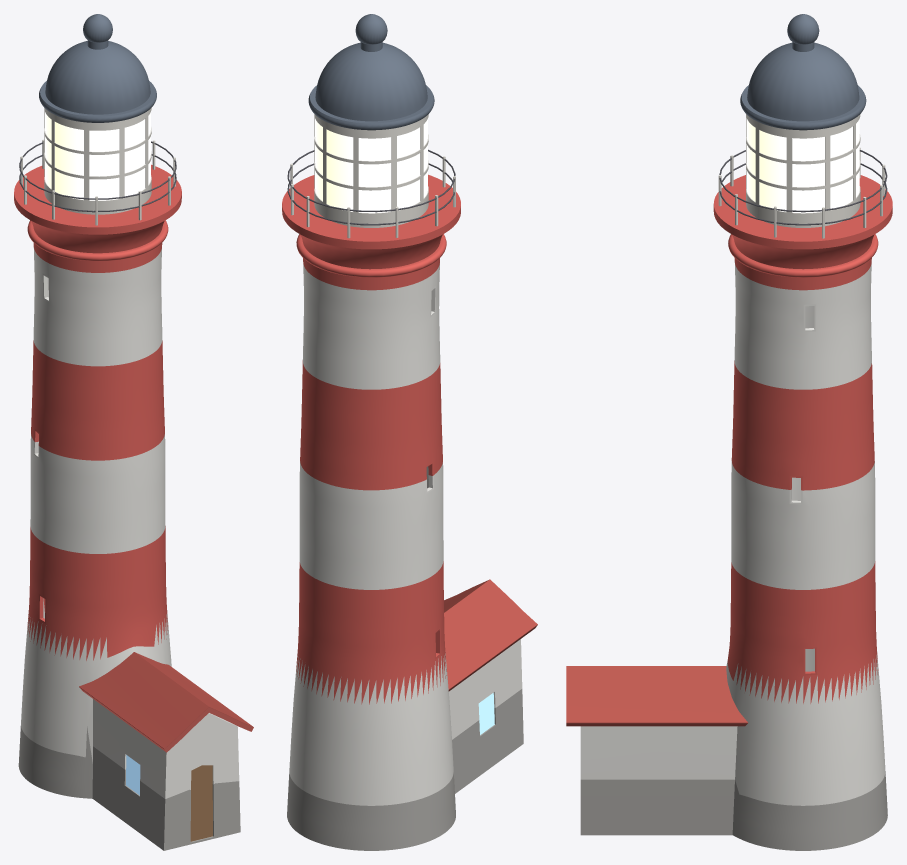
Rendered from lighthouse.glb.
3 renders of one model, left to right at view 1: azimuth 30°, elevation 25°; view 2: azimuth 150°, elevation 25°; view 3: azimuth 270°, elevation 25°, orthographic. The views are drawn at different scales.
Visible parts, largest first — view 1: tower_white, tower_red, tower_stone, dome, roof, glass, tower_gallery, door, rails, aleron; view 2: tower_white, tower_red, tower_stone, dome, glass, roof, tower_gallery, rails, window; view 3: tower_white, tower_red, tower_stone, roof, dome, glass, tower_gallery, rails, aleron.
Part boxes in pixels (left/top/right/bottom): tower_white: left=21, top=247, right=239, bottom=798; tower_red: left=14, top=164, right=181, bottom=660; tower_stone: left=18, top=726, right=240, bottom=850; dome: left=39, top=14, right=156, bottom=122; roof: left=79, top=652, right=253, bottom=749; glass: left=45, top=112, right=150, bottom=200; tower_gallery: left=20, top=108, right=175, bottom=225; door: left=190, top=765, right=212, bottom=841; rails: left=19, top=141, right=176, bottom=212; aleron: left=79, top=687, right=253, bottom=752; tower_white: left=289, top=263, right=522, bottom=805; tower_red: left=282, top=174, right=460, bottom=704; tower_stone: left=287, top=689, right=523, bottom=850; dome: left=308, top=14, right=434, bottom=130; glass: left=315, top=118, right=427, bottom=213; roof: left=444, top=579, right=537, bottom=689; tower_gallery: left=290, top=114, right=455, bottom=238; rails: left=287, top=149, right=455, bottom=225; window: left=478, top=693, right=494, bottom=734; tower_white: left=580, top=262, right=885, bottom=805; tower_red: left=713, top=175, right=892, bottom=703; tower_stone: left=580, top=771, right=887, bottom=850; roof: left=566, top=666, right=747, bottom=723; dome: left=740, top=14, right=866, bottom=130; glass: left=746, top=118, right=859, bottom=213; tower_gallery: left=718, top=114, right=885, bottom=238; rails: left=719, top=150, right=887, bottom=225; aleron: left=566, top=723, right=747, bottom=726.
Size of the model in its own units: 1.66 by 8.18 by 3.02.
